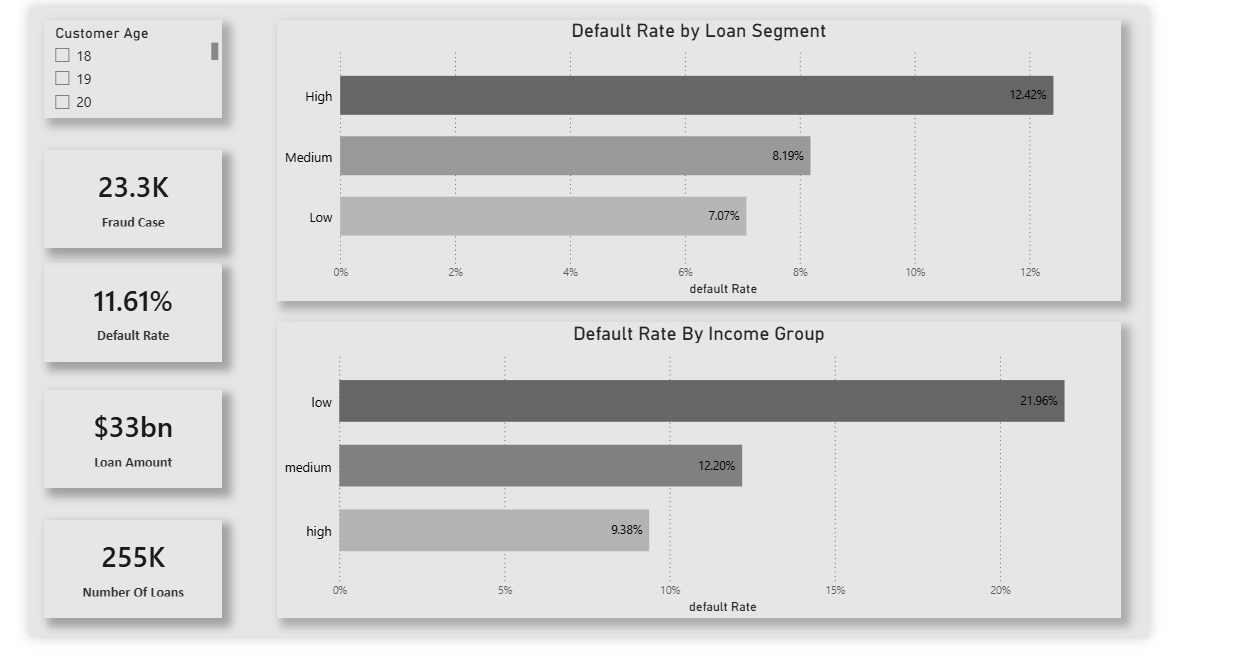

The dashboard page shown, as its layout file describes it:
{"tool":"powerbi","page":{"name":"Main Dashboard","canvas":[1280,720],"ordinal":0},"visuals":[{"type":"cardVisual","fields":{"Data":["clean_loans.Fraud Case"]},"box":[17.1,162.9,204.3,112.9],"z":0},{"type":"cardVisual","fields":{"Data":["clean_loans.default Rate"]},"box":[17.1,292.9,204.3,112.9],"z":1000},{"type":"slicer","fields":{"Values":["clean_loans.age"]},"box":[17.1,14.3,204.3,112.9],"z":2000},{"type":"cardVisual","fields":{"Data":["clean_loans.Total Loans"]},"box":[17.1,585.7,204.3,112.9],"z":2001},{"type":"barChart","title":"Default Rate by Loan Segment","fields":{"Category":["clean_loans.Loan Segment"],"Y":["clean_loans.default Rate"]},"box":[282.9,14.3,965.7,321.4],"z":2002},{"type":"barChart","title":"Default Rate By Income Group","fields":{"Category":["clean_loans.income_group"],"Y":["clean_loans.default Rate"]},"box":[282.9,360,965.7,338.6],"z":2003},{"type":"cardVisual","fields":{"Data":["Sum(clean_loans.loanamount)"]},"box":[17.1,437.1,204.3,112.9],"z":2004}]}

Visuals, with their boxes on the page's 1280x720 design canvas (x1, y1, x2, y2). These are canvas units, not pixel positions in the 1242x662 screenshot, which may show the page scaled, cropped or inside an application window:
cardVisual - clean_loans.Fraud Case: region(17, 163, 221, 276)
cardVisual - clean_loans.default Rate: region(17, 293, 221, 406)
slicer - clean_loans.age: region(17, 14, 221, 127)
cardVisual - clean_loans.Total Loans: region(17, 586, 221, 699)
"Default Rate by Loan Segment" barChart: region(283, 14, 1249, 336)
"Default Rate By Income Group" barChart: region(283, 360, 1249, 699)
cardVisual - Sum(clean_loans.loanamount): region(17, 437, 221, 550)
